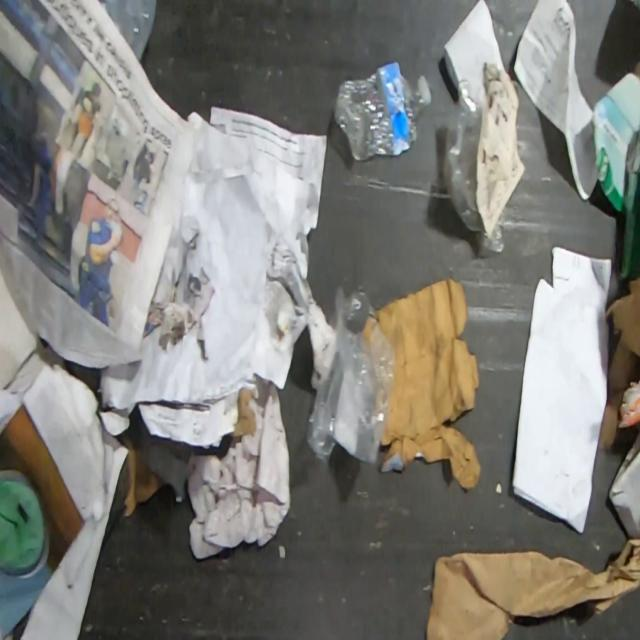cardboard: (376, 275, 482, 491), (424, 538, 640, 640), (591, 69, 640, 283), (597, 277, 640, 451), (114, 428, 166, 519)
rigid_plastic: (332, 60, 433, 161)
soft_plastic: (304, 281, 397, 468), (438, 76, 504, 255), (100, 0, 157, 62)
